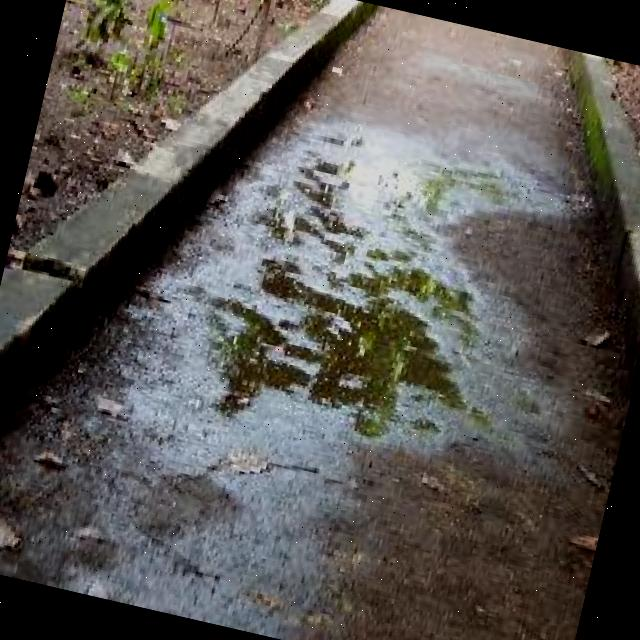waterlogging: (229, 97, 551, 477)
